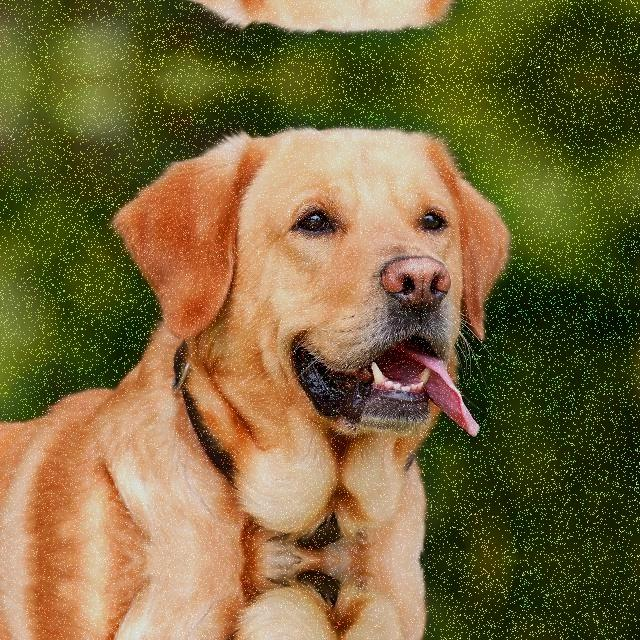dog: (108, 96, 556, 450), (108, 0, 556, 64)
